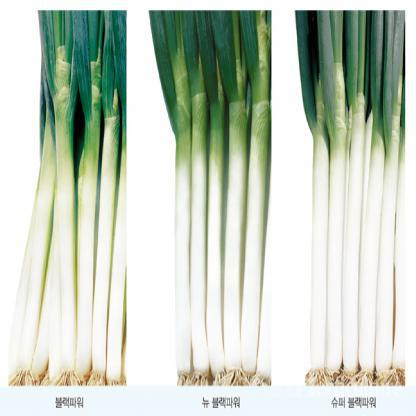green onion: (13, 3, 126, 390), (296, 11, 406, 386), (163, 3, 270, 388)
